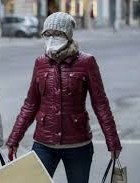with_mask: (41, 25, 74, 57)
